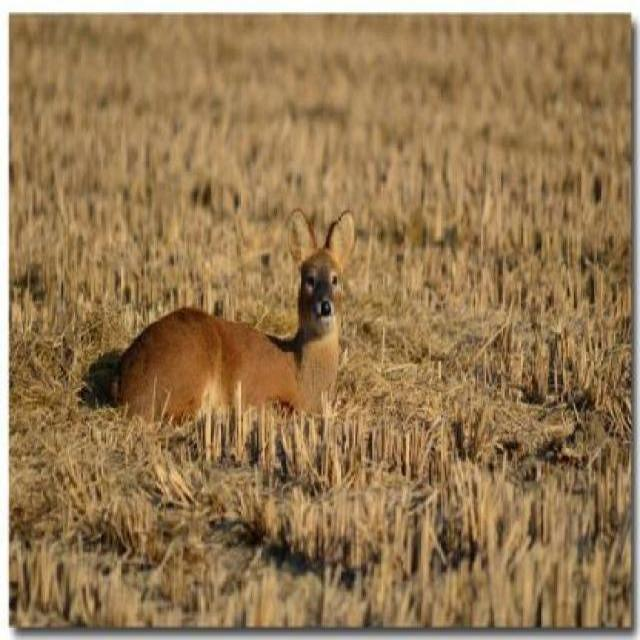deer: (108, 208, 361, 424)
